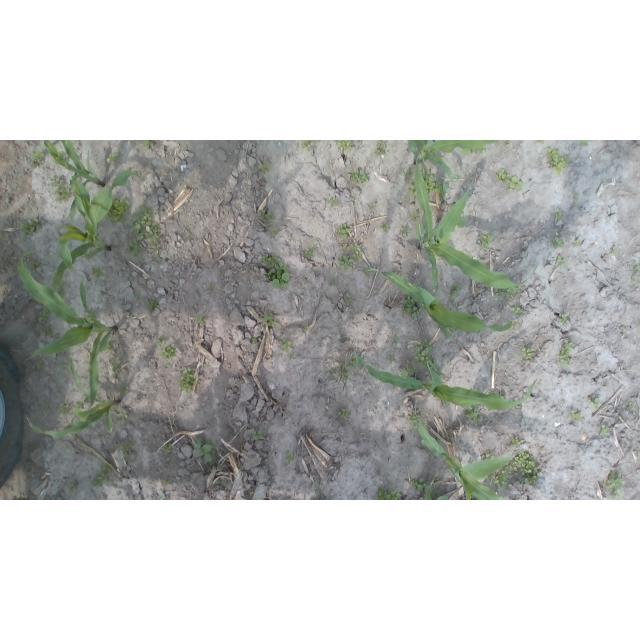Maize: (15, 249, 117, 415), (412, 155, 536, 289), (349, 340, 536, 411), (366, 266, 515, 344), (412, 400, 517, 501), (52, 170, 139, 291), (27, 356, 122, 438), (42, 141, 105, 228), (406, 140, 499, 182)
Weeds: (487, 462, 517, 490), (544, 146, 573, 174), (266, 262, 291, 289), (105, 198, 130, 224), (49, 175, 71, 204), (191, 438, 215, 462), (401, 296, 424, 320), (178, 367, 199, 393), (92, 464, 113, 489), (412, 338, 433, 363), (557, 338, 574, 367), (323, 365, 349, 383), (373, 484, 402, 500), (513, 452, 534, 474), (127, 215, 144, 242), (424, 179, 449, 196), (604, 470, 625, 490), (19, 218, 41, 236), (506, 173, 525, 193), (125, 240, 144, 258), (144, 222, 161, 242), (422, 360, 442, 377), (139, 204, 154, 226), (410, 475, 428, 493), (464, 406, 483, 423), (347, 169, 367, 184), (280, 337, 293, 359), (349, 242, 363, 262), (372, 140, 388, 157), (30, 149, 45, 167), (160, 345, 178, 360), (479, 232, 495, 248), (524, 467, 538, 485), (300, 140, 321, 152), (421, 164, 434, 183), (337, 255, 353, 270), (401, 363, 416, 378), (262, 313, 278, 327), (336, 224, 352, 238), (258, 209, 276, 221), (448, 284, 462, 299), (284, 448, 297, 464), (456, 212, 468, 229), (596, 422, 610, 436), (316, 484, 327, 501), (351, 355, 364, 369), (146, 298, 159, 312), (37, 307, 49, 322), (262, 252, 277, 264), (570, 409, 585, 421), (259, 160, 270, 176), (116, 412, 129, 425), (522, 347, 535, 360), (586, 396, 599, 409), (552, 236, 565, 249), (92, 265, 106, 277), (406, 414, 420, 426), (400, 224, 411, 239), (106, 152, 119, 164), (120, 442, 133, 454), (305, 245, 317, 258), (336, 140, 353, 149), (338, 407, 350, 419), (43, 324, 54, 337), (59, 404, 70, 417), (612, 489, 625, 500), (407, 184, 417, 197), (510, 305, 523, 315), (497, 169, 506, 183), (36, 360, 47, 371), (507, 287, 518, 298), (252, 431, 264, 441), (482, 452, 497, 460), (402, 170, 411, 183), (578, 140, 591, 149), (162, 443, 173, 453), (328, 197, 338, 208), (460, 148, 473, 156), (141, 140, 154, 148), (149, 244, 162, 252), (379, 221, 389, 231), (559, 313, 569, 323), (28, 261, 39, 270), (56, 280, 67, 289), (156, 339, 167, 348), (492, 288, 504, 296), (155, 252, 167, 260), (511, 437, 520, 447), (389, 337, 399, 346), (624, 401, 633, 411), (344, 293, 352, 304), (197, 314, 205, 325), (450, 327, 462, 334), (412, 209, 419, 221), (76, 400, 85, 409), (58, 150, 66, 160), (51, 160, 61, 168), (476, 145, 486, 153), (435, 496, 449, 501), (160, 492, 168, 500), (573, 238, 581, 246), (68, 485, 77, 492), (557, 256, 564, 265), (557, 210, 563, 220), (110, 363, 118, 370), (270, 229, 278, 236), (135, 293, 142, 301), (86, 317, 94, 324), (632, 262, 638, 271), (631, 275, 637, 284), (504, 140, 513, 146), (125, 385, 130, 395), (60, 364, 67, 371), (328, 280, 336, 286), (611, 245, 617, 253), (387, 356, 393, 363), (303, 325, 310, 331), (621, 326, 628, 332), (208, 283, 215, 289), (341, 246, 349, 251), (453, 174, 461, 179), (372, 203, 377, 210), (574, 194, 579, 200), (342, 336, 347, 341), (252, 338, 257, 343), (455, 304, 461, 308), (0, 232, 2, 239)
